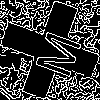M: (25, 25, 83, 80)
